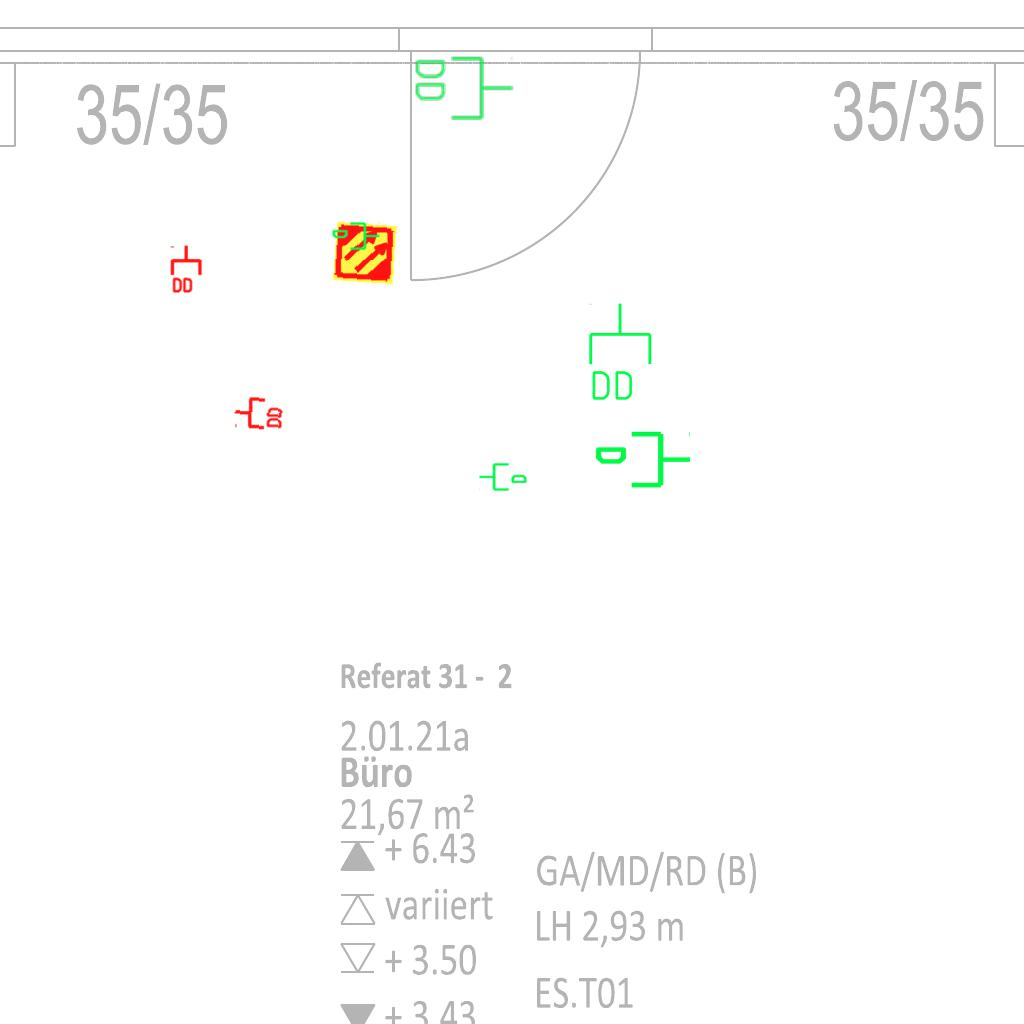ASR_Ansaugrauchmelder: (331, 219, 399, 287)
Datenanschluss_einfach: (593, 427, 693, 496), (478, 459, 528, 493), (331, 220, 381, 254)
Datenanschluss_zweifach: (412, 53, 515, 122), (585, 301, 654, 404), (232, 394, 286, 431), (170, 244, 204, 295)
